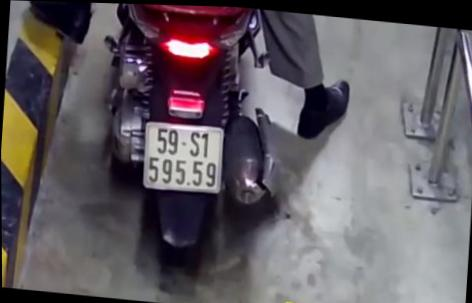LP: (139, 117, 227, 196)
